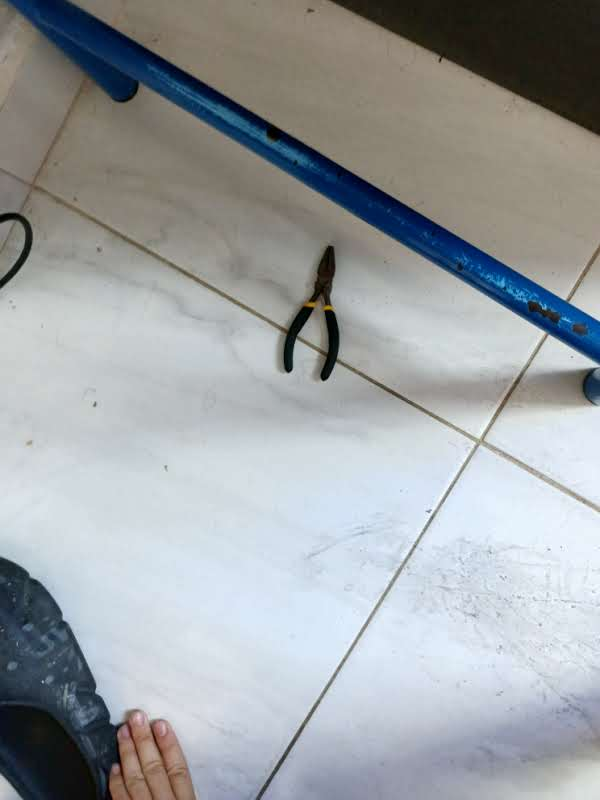Pinzas: (283, 244, 339, 379)
